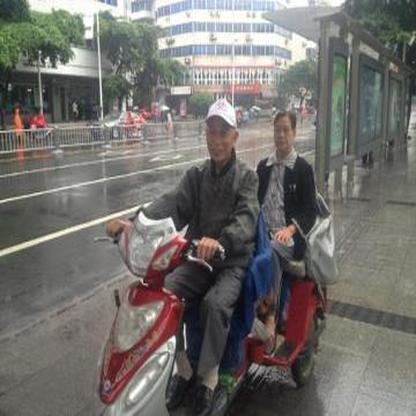target: (94, 97, 336, 409)
